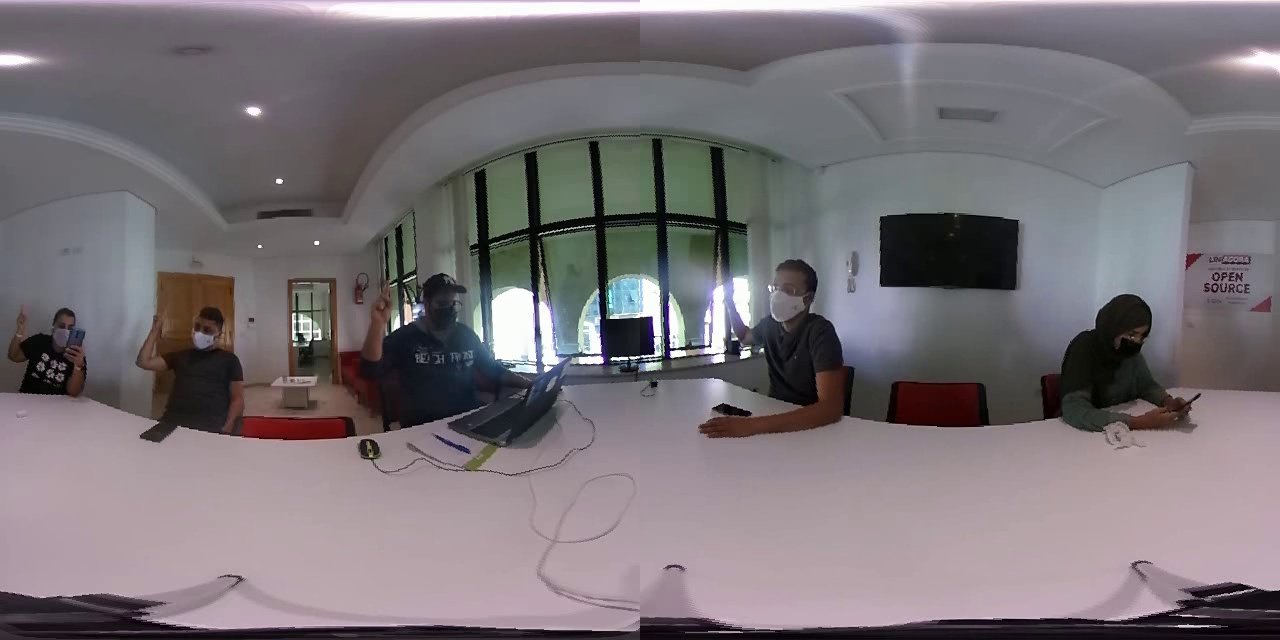person: (682, 225, 876, 453), (1008, 264, 1204, 473), (343, 256, 543, 458), (116, 280, 264, 452), (2, 288, 108, 418)
speaking: (349, 267, 413, 400), (701, 243, 753, 365), (126, 298, 185, 385), (4, 297, 37, 377)
